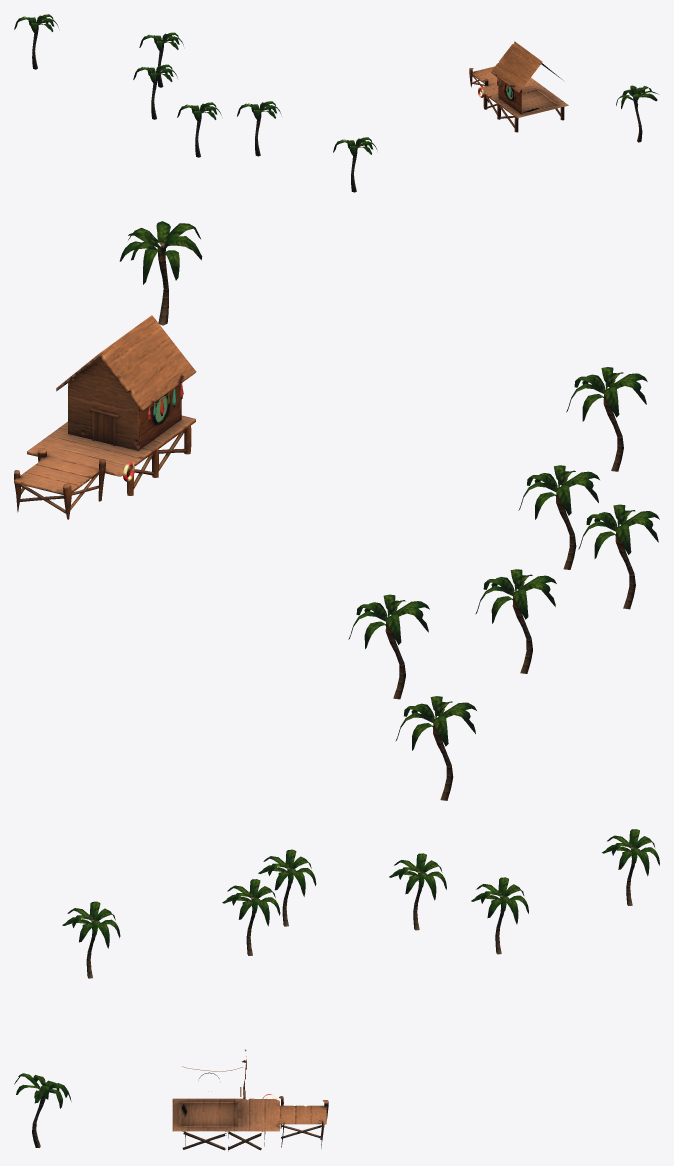
The model's file is model_chunk_1.glb.
3 renders of one model, top to bottom at view 1: azimuth 30°, elevation 25°; view 2: azimuth 150°, elevation 25°; view 3: azimuth 270°, elevation 25°, orthographic. The views are drawn at different scales.
Visible parts, largest first — view 1: house001, PalmTree001, PalmTree002, PalmTree004, PalmTree007, PalmTree005, PalmTree003, PalmTree006; view 2: house001, PalmTree001, PalmTree004, PalmTree002, PalmTree006, PalmTree005, PalmTree007, PalmTree003; view 3: house001, PalmTree005, PalmTree007, PalmTree002, PalmTree006, PalmTree003, PalmTree004, PalmTree001.
Boxes of the visible parts, x1,y1,x2,y2 form: house001: (469,41,568,132); PalmTree001: (616,85,659,142); PalmTree002: (333,137,377,192); PalmTree004: (177,102,221,157); PalmTree007: (14,14,58,69); PalmTree005: (133,64,177,119); PalmTree003: (237,101,281,156); PalmTree006: (139,32,183,87); house001: (14,315,196,519); PalmTree001: (119,221,202,325); PalmTree004: (578,504,659,609); PalmTree002: (566,367,647,471); PalmTree006: (348,594,429,699); PalmTree005: (475,569,556,673); PalmTree007: (395,696,476,800); PalmTree003: (518,465,599,569); house001: (172,1049,328,1151); PalmTree005: (389,853,446,930); PalmTree007: (602,829,659,905); PalmTree002: (62,901,120,978); PalmTree006: (471,877,528,954); PalmTree003: (222,879,280,955); PalmTree004: (258,849,316,926); PalmTree001: (14,1073,71,1147).
Bounding box in the file's own units: 28.46 × 4.52 × 29.12.
1 material, 1 textured.
